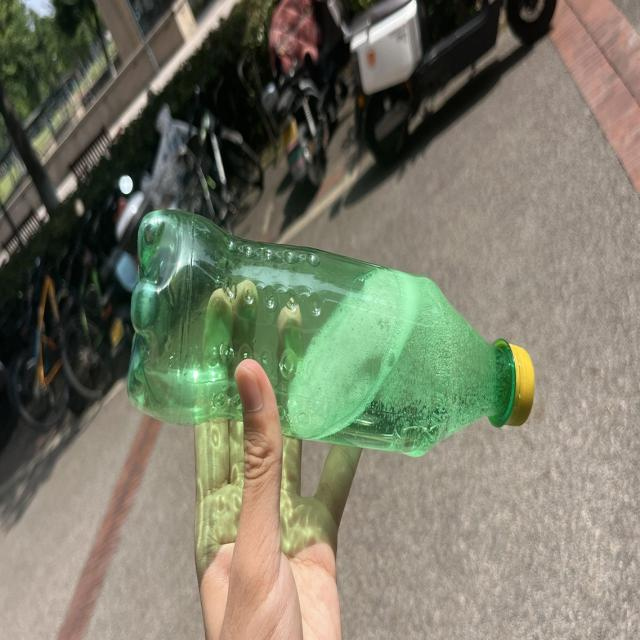medium: (127, 210, 534, 454)
